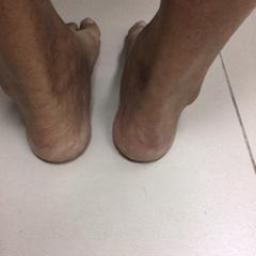Back View -Both Feet-: (2, 2, 231, 183)
